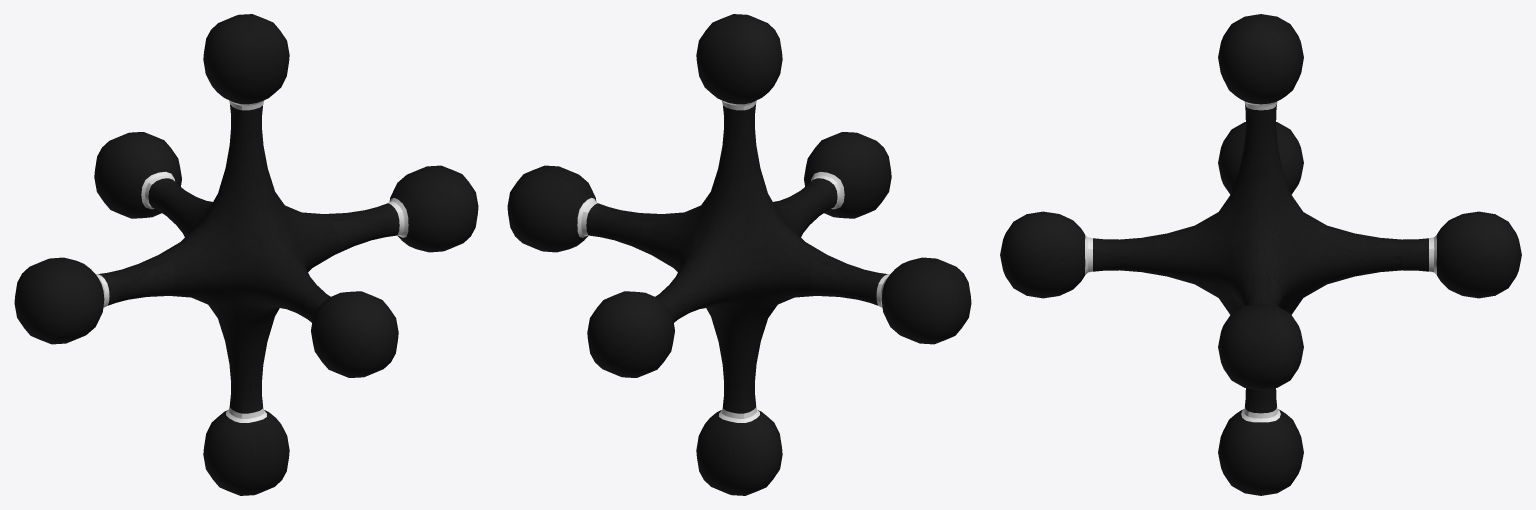
Rendered from Thing.fbx.
3 renders of one model, left to right at view 1: azimuth 30°, elevation 25°; view 2: azimuth 150°, elevation 25°; view 3: azimuth 270°, elevation 25°, orthographic.
Parts seen in each view (by area): view 1: Thing; view 2: Thing; view 3: Thing.
Boxes of the visible parts, x1,y1,x2,y2 form: Thing: (14, 14, 478, 495); Thing: (507, 14, 971, 495); Thing: (1000, 14, 1521, 495).
Bounding box in the file's own units: 0.8326 × 0.8326 × 0.8326.
